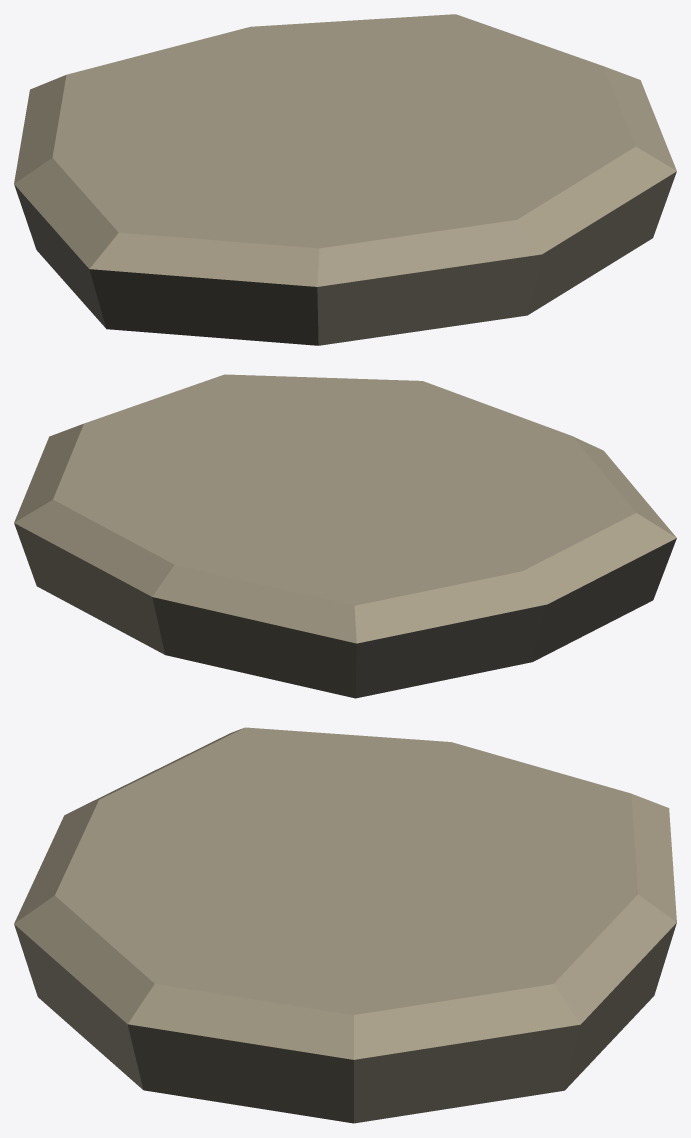
The model's file is TW_PAVER_ROUND_A_LOD0.glb.
3 renders of one model, top to bottom at view 1: azimuth 30°, elevation 25°; view 2: azimuth 150°, elevation 25°; view 3: azimuth 270°, elevation 25°, orthographic. The views are drawn at different scales.
Parts seen in each view (by area): view 1: TW_PAVER_ROUND_A_LOD0; view 2: TW_PAVER_ROUND_A_LOD0; view 3: TW_PAVER_ROUND_A_LOD0.
Part boxes in pixels (x1,y1,x2,y2): TW_PAVER_ROUND_A_LOD0: (14, 14, 676, 345); TW_PAVER_ROUND_A_LOD0: (14, 374, 676, 698); TW_PAVER_ROUND_A_LOD0: (14, 727, 676, 1123).
Size of the model in its own units: 0.7 by 0.1 by 0.6.
1 material, 1 textured.
